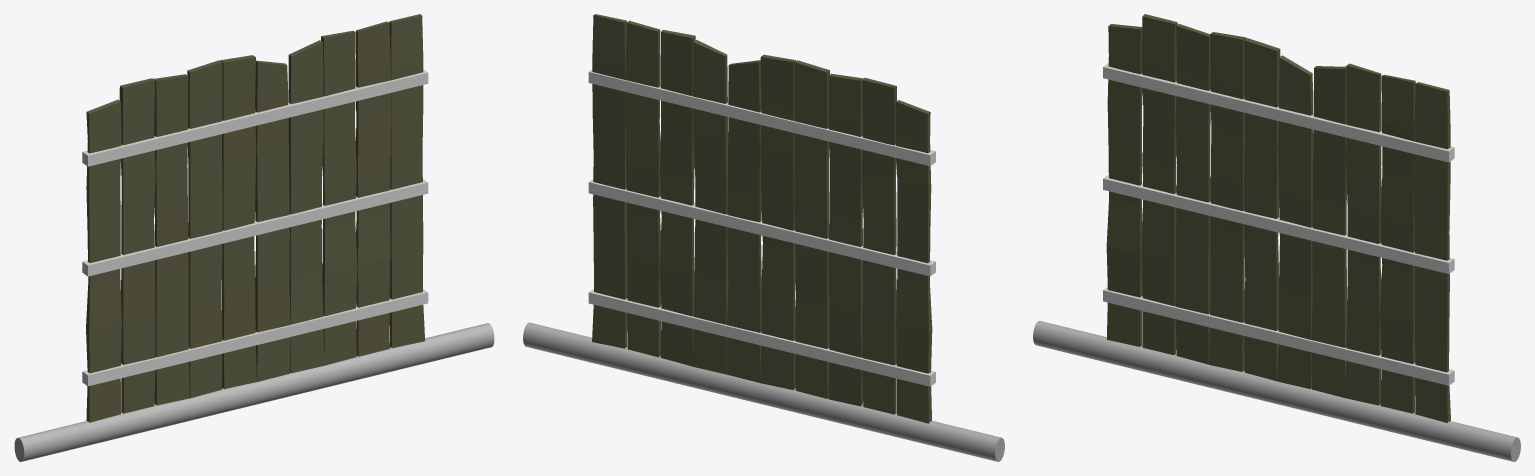
Rendered from pontlevis.fbx.
The picture shows the model from 3 angles, left to right: view 1: azimuth 30°, elevation 25°; view 2: azimuth 150°, elevation 25°; view 3: azimuth 330°, elevation 25°; orthographic projection.
Parts seen in each view (by area): view 1: PontLevis; view 2: PontLevis; view 3: PontLevis.
Part boxes in pixels (x1=…): PontLevis: x1=14, y1=14, x2=494, y2=461; PontLevis: x1=523, y1=14, x2=1004, y2=461; PontLevis: x1=1033, y1=14, x2=1520, y2=461.
Size of what is drawn, in the model's own units: 11.51 by 8.19 by 0.4158.
